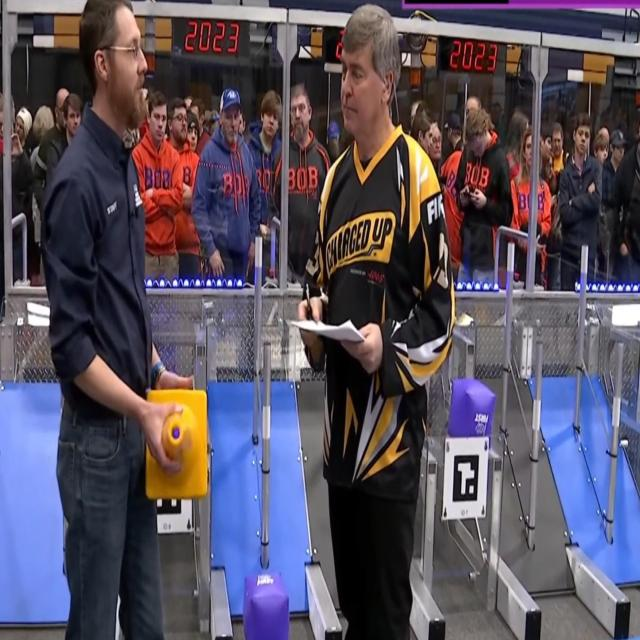frc_cone: (144, 386, 209, 504)
frc_cube: (242, 572, 290, 640), (448, 376, 494, 444)
